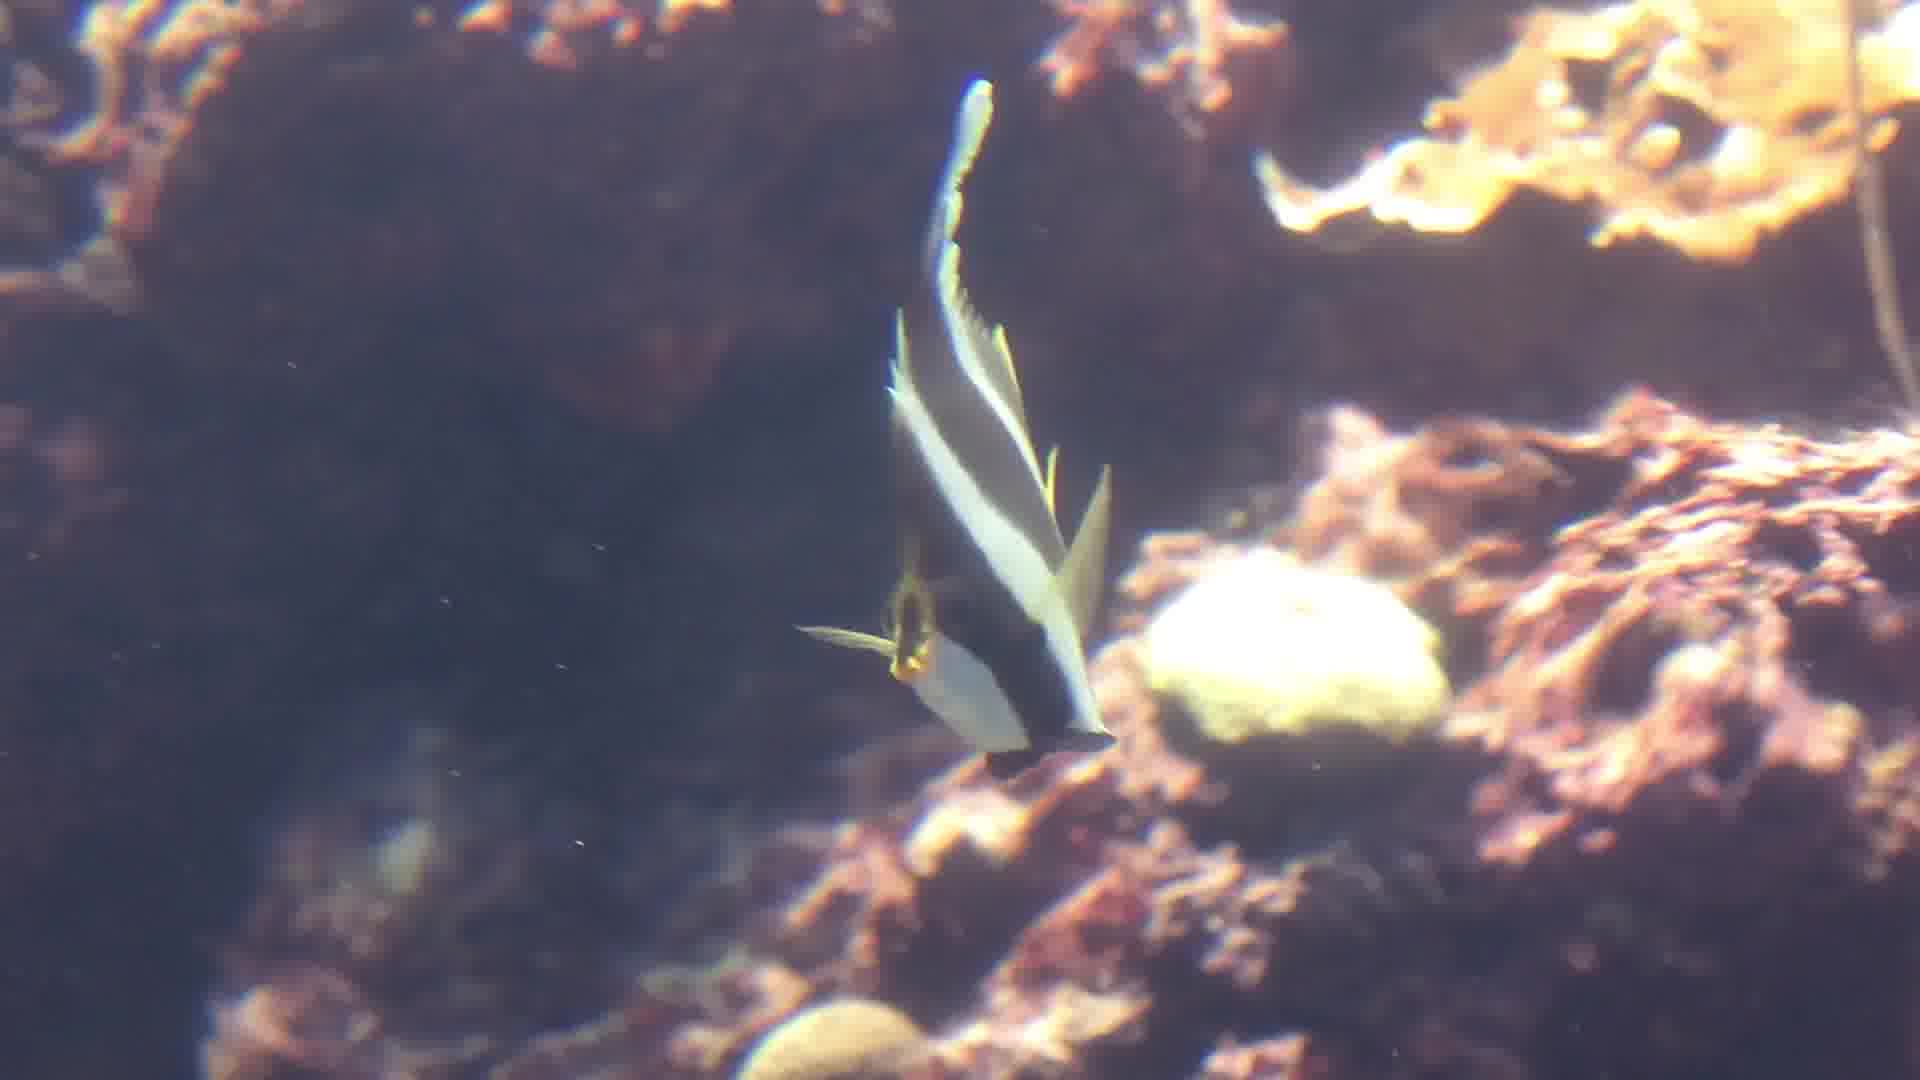Heniochus chrysostomus: (756, 33, 1175, 775)
